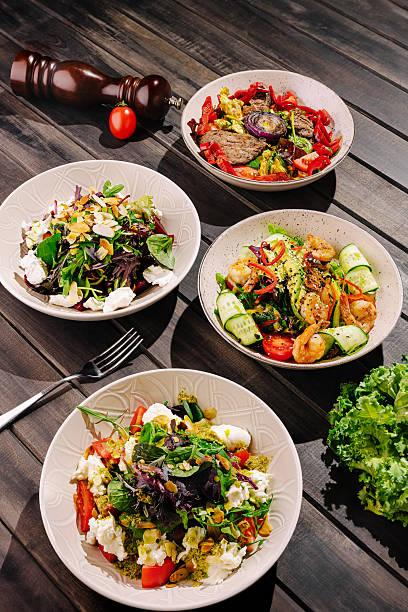Braised Crucian Carp: (36, 371, 299, 606), (196, 209, 402, 367), (0, 160, 202, 315), (179, 69, 355, 188)
